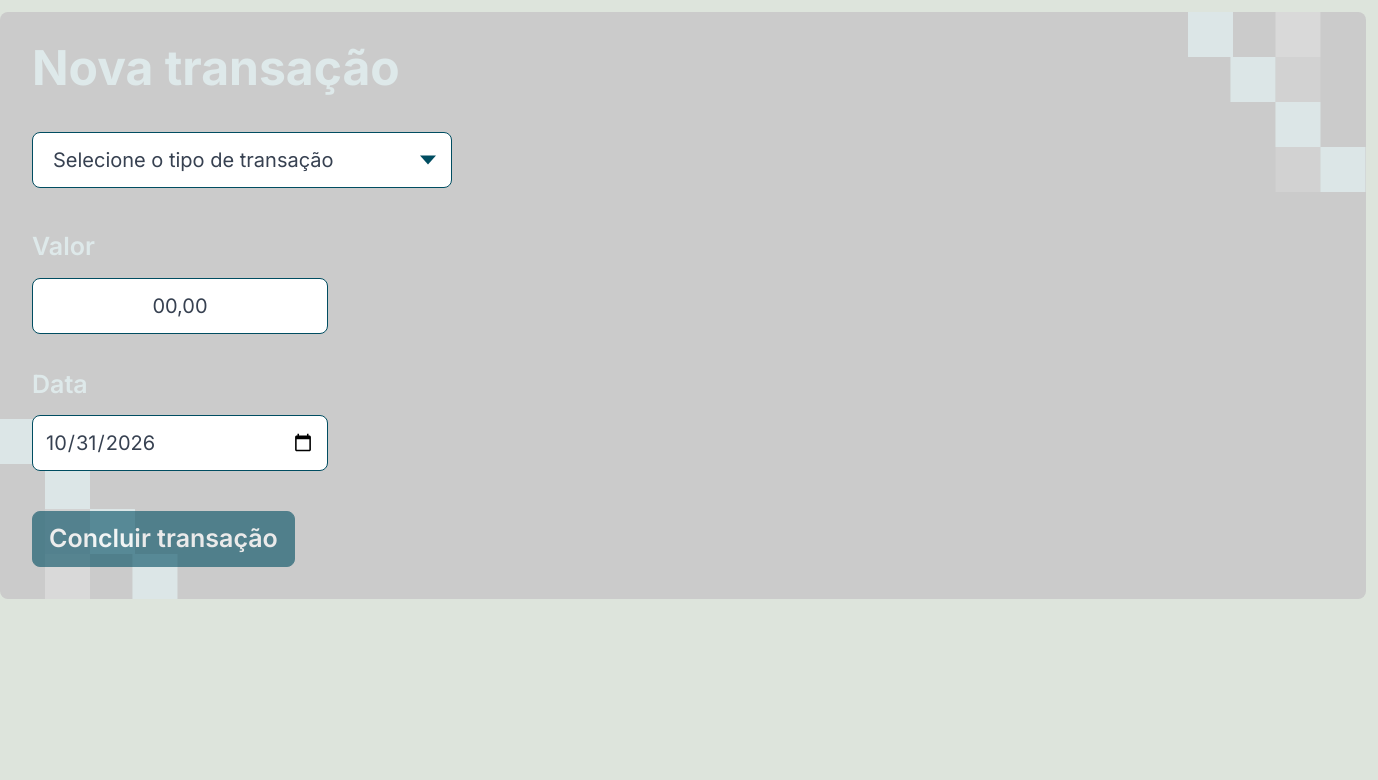
Scenario: NewTransactionPanel › envia o valor em centavos e reseta o formulario no submit valido
This screenshot has width=1378, height=780.
Select "Depósito" in the dropdown named "Tipo de transação" at (242, 160), box top-left (32, 132), bottom-right (452, 188)
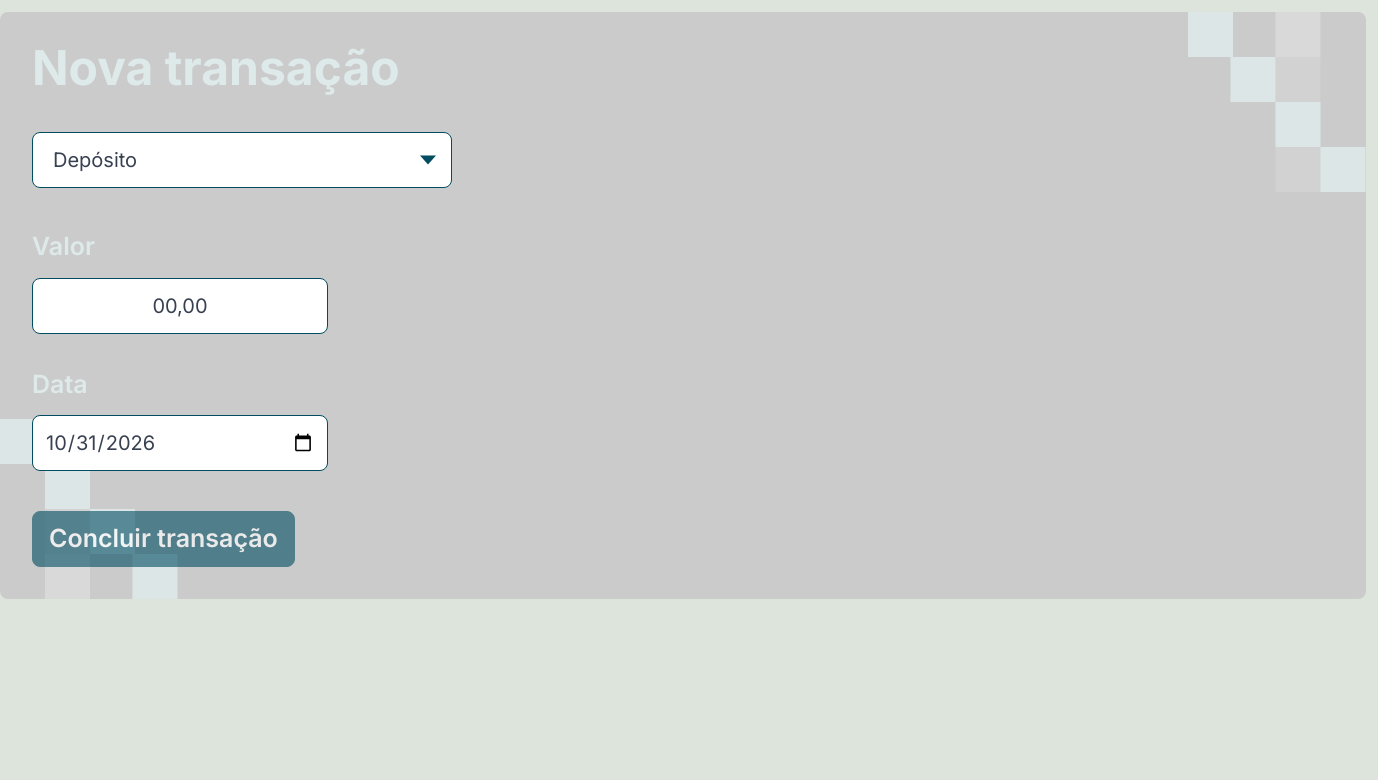
Replace the text in the field labelled "Valor" with "123456" at (180, 306), box top-left (32, 278), bottom-right (328, 334)
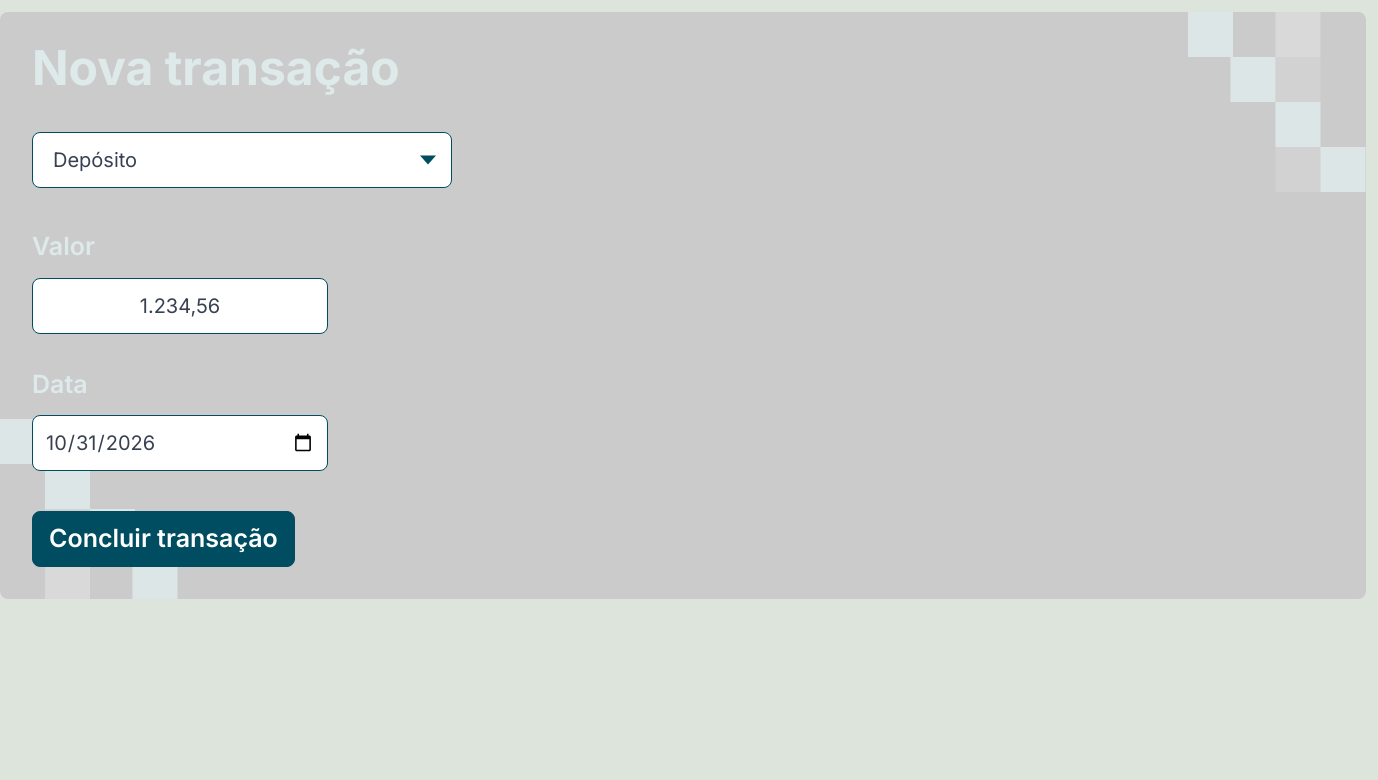
Type "2026-04-19" into the date field labelled "Data".
click(180, 443); type("2026-04-19")  # box top-left (32, 415), bottom-right (328, 471)
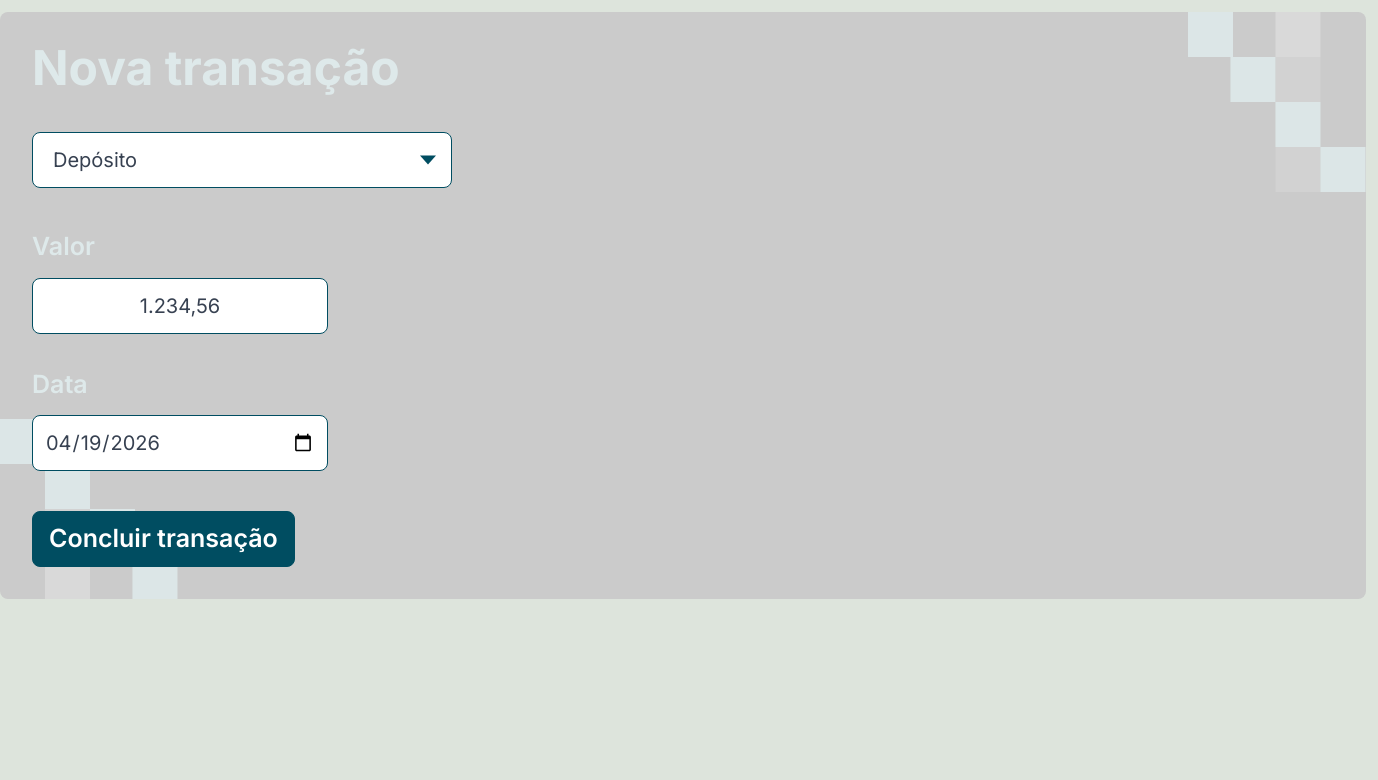
Click the button "Concluir transação".
click(163, 539)  # box top-left (32, 511), bottom-right (295, 567)
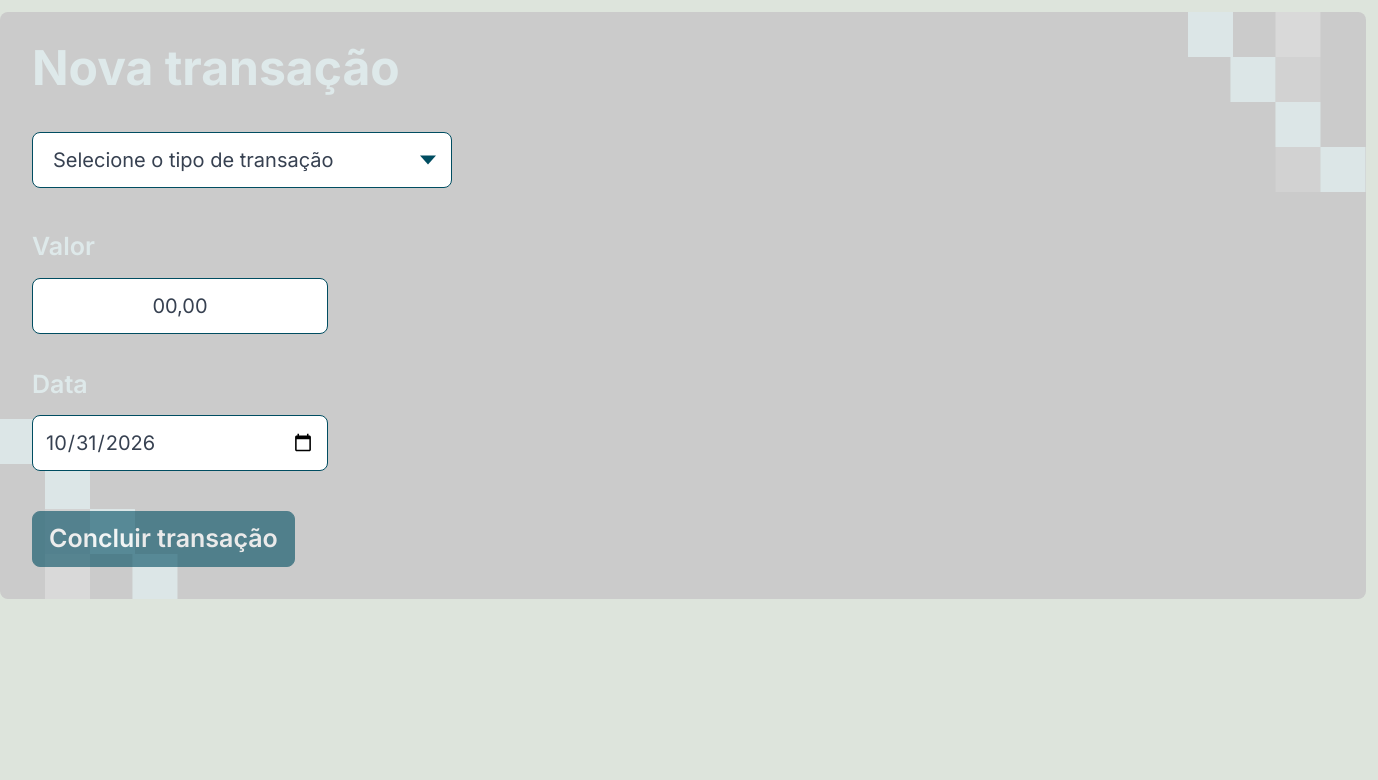
Expected: the field labelled "Valor" holds "00,00", top-left (32, 278), bottom-right (328, 334)
